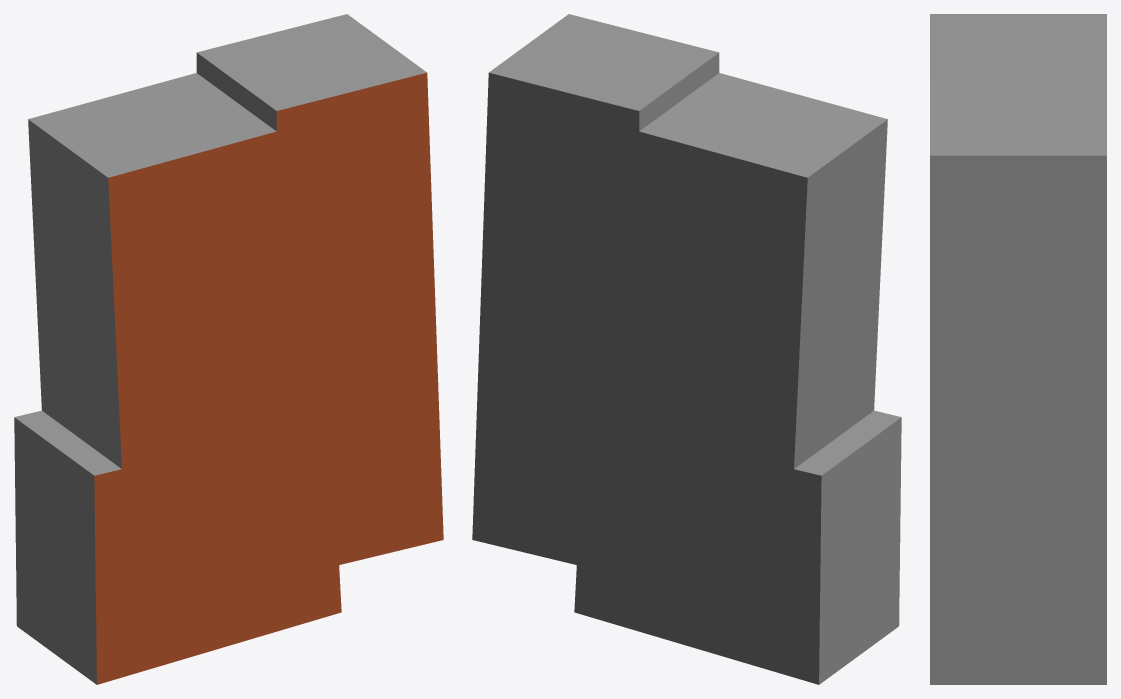
File: construction_2653_assumed_A_Casa_h6m.obj
The picture shows the model from 3 angles, left to right: view 1: azimuth 30°, elevation 25°; view 2: azimuth 150°, elevation 25°; view 3: azimuth 270°, elevation 25°; orthographic projection. The views are drawn at different scales.
Visible parts, largest first — view 1: construction_2653_assumed_A_Casa; view 2: construction_2653_assumed_A_Casa; view 3: construction_2653_assumed_A_Casa.
Part boxes in pixels (box(x1,y1,x2,y2)): construction_2653_assumed_A_Casa: box(14, 14, 443, 684); construction_2653_assumed_A_Casa: box(472, 14, 901, 684); construction_2653_assumed_A_Casa: box(930, 14, 1106, 684).
Bounding box in the file's own units: 15.1 × 21.97 × 6.
